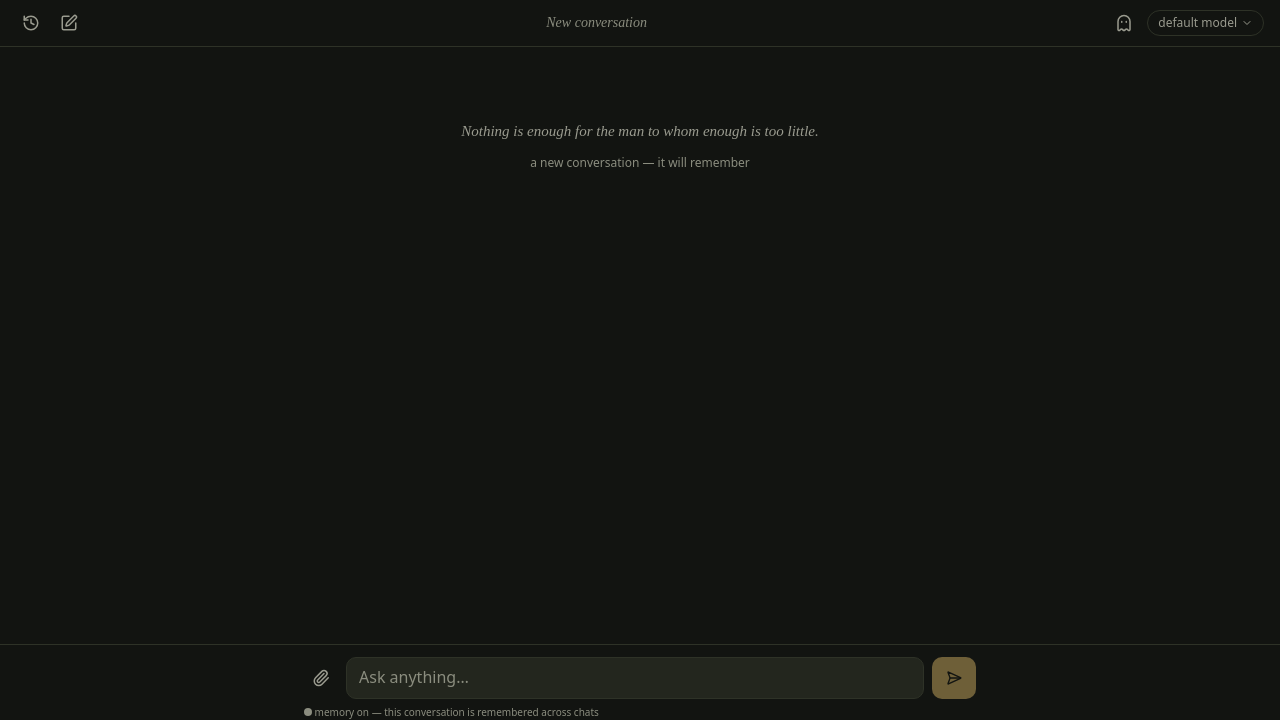
Scenario: Conversations sheet (#480) › says so when nothing matches
Click the button named "Conversations" at (31, 23), box [16, 8, 46, 38]
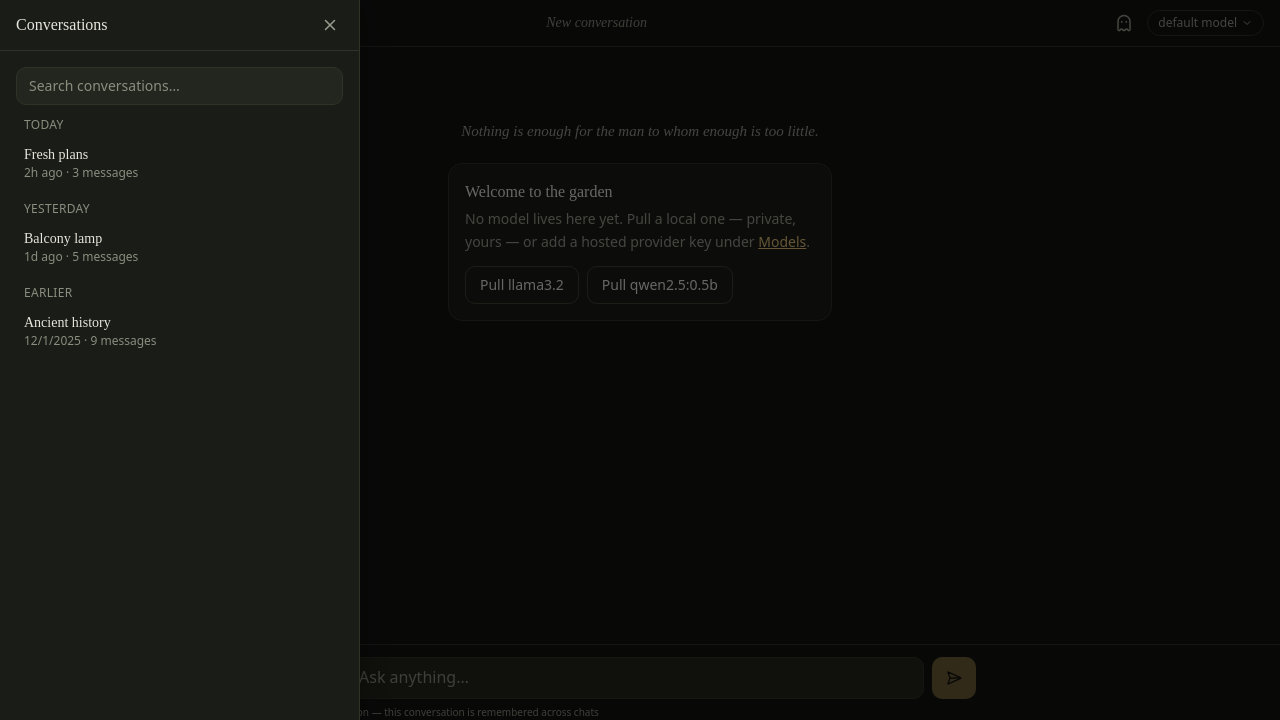
Expected: the text "Fresh plans" is shown, [24, 145, 88, 165]
Type "zebra" into the field labelled "Search conversations" at (180, 86), box [16, 67, 343, 105]
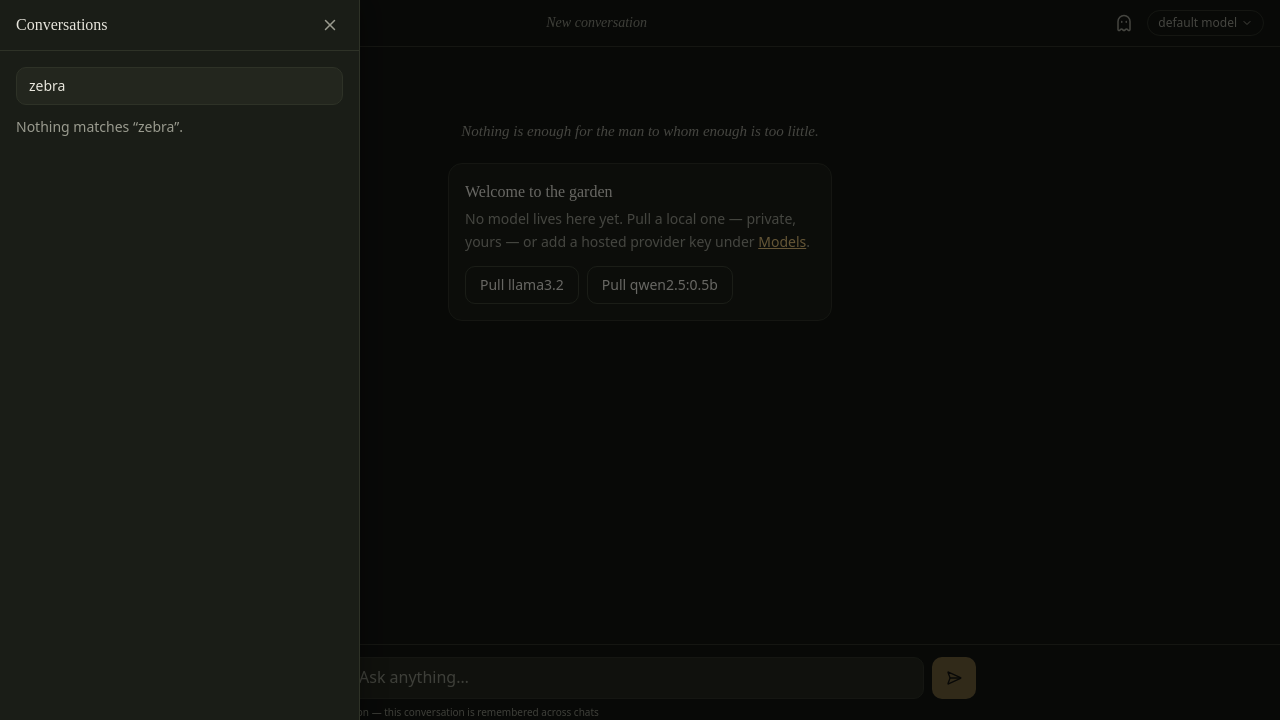
Expected: the text "Nothing matches “zebra”." is shown, [16, 117, 183, 136]
